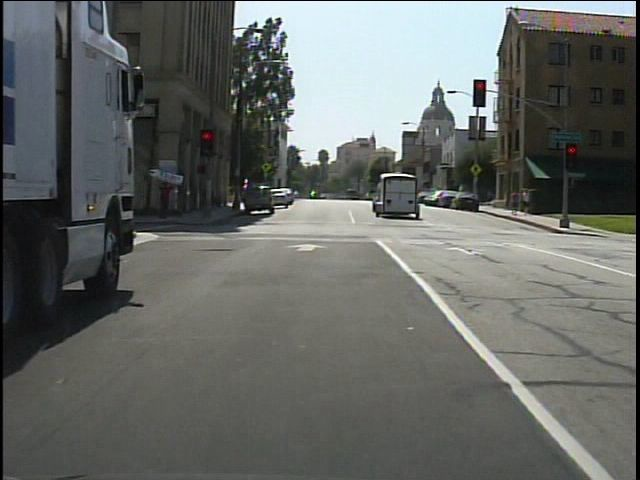person: (156, 177, 176, 218), (520, 187, 535, 216), (509, 186, 522, 218)
